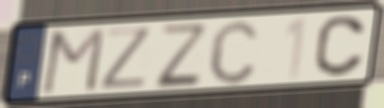1: (285, 16, 308, 80)
C: (206, 17, 262, 87), (311, 14, 368, 79)
M: (38, 24, 108, 97)
Z: (97, 25, 155, 92), (153, 21, 207, 91)
